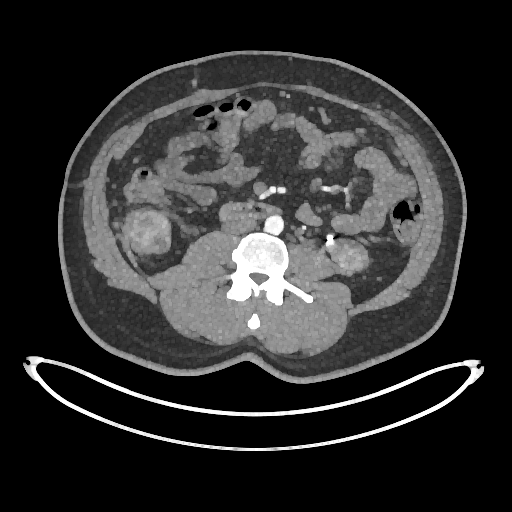Lesion: (148, 233, 171, 256)
